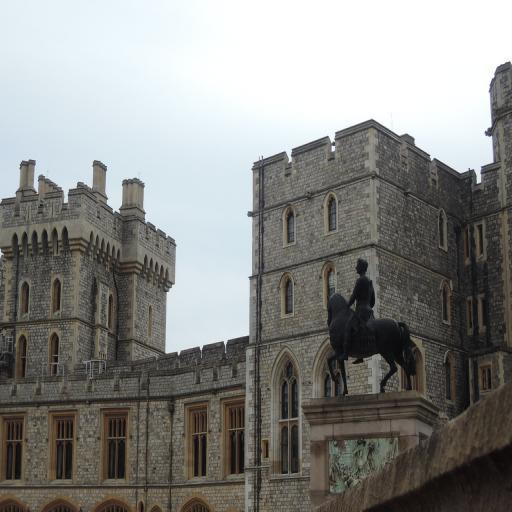horse: (325, 288, 418, 394)
